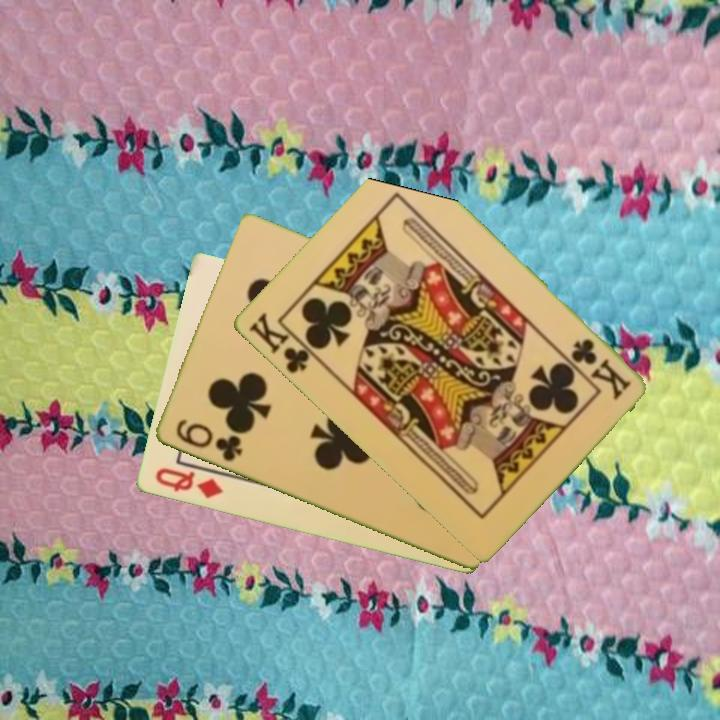6c: (171, 416, 245, 465)
Kc: (245, 308, 321, 377), (566, 335, 634, 402)
Qd: (151, 464, 226, 502)
